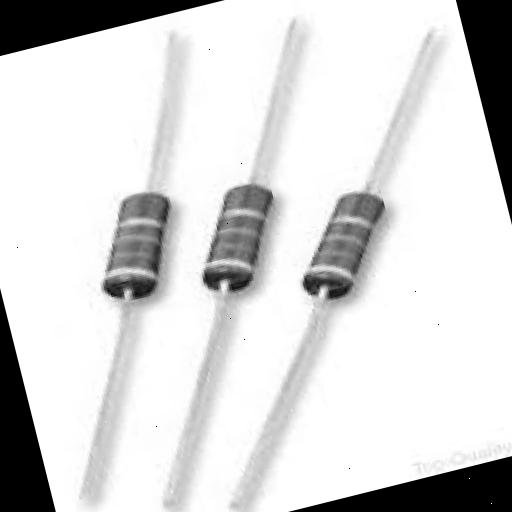RESISTOR: (30, 150, 235, 350), (260, 170, 454, 344), (146, 153, 322, 336)
